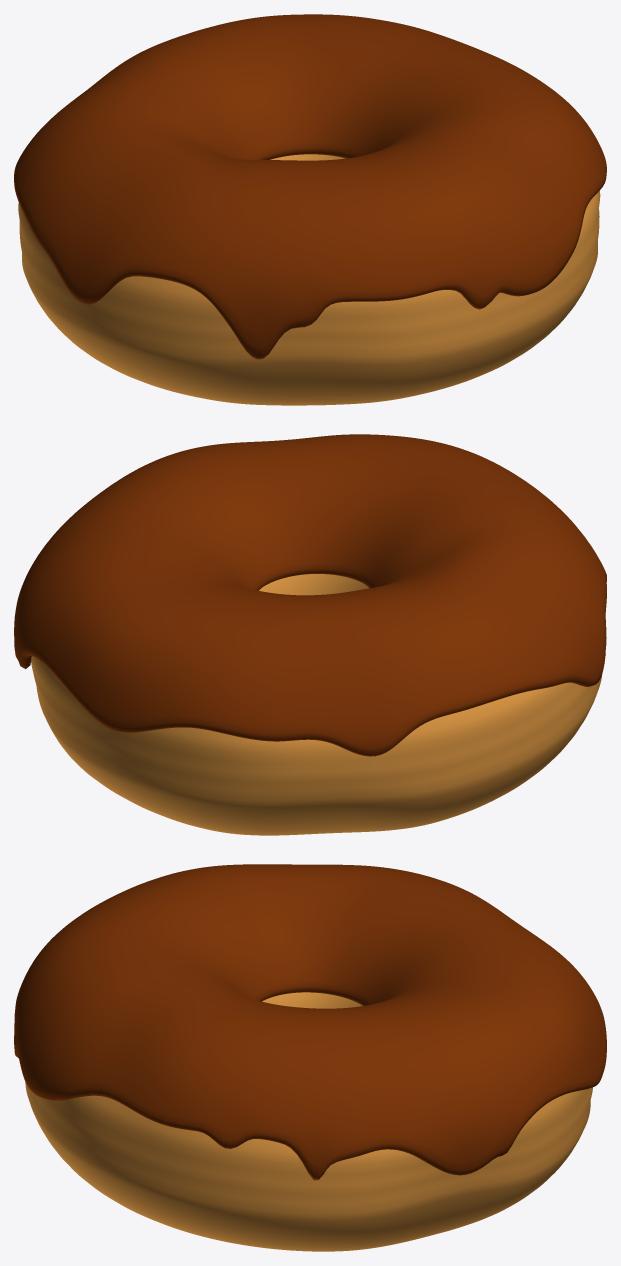
Rendered from donut.fbx.
3 renders of one model, top to bottom at view 1: azimuth 30°, elevation 25°; view 2: azimuth 150°, elevation 25°; view 3: azimuth 270°, elevation 25°, orthographic.
Visible parts, largest first — view 1: Donut.001, Donut; view 2: Donut.001, Donut; view 3: Donut.001, Donut.
Boxes of the visible parts, x1,y1,x2,y2 form: Donut.001: (14,14,606,359); Donut: (18,154,600,405); Donut.001: (14,434,606,756); Donut: (31,574,602,835); Donut.001: (14,864,606,1180); Donut: (25,992,592,1251).
Bounding box in the file's own units: 10.16 × 4.43 × 10.16.
